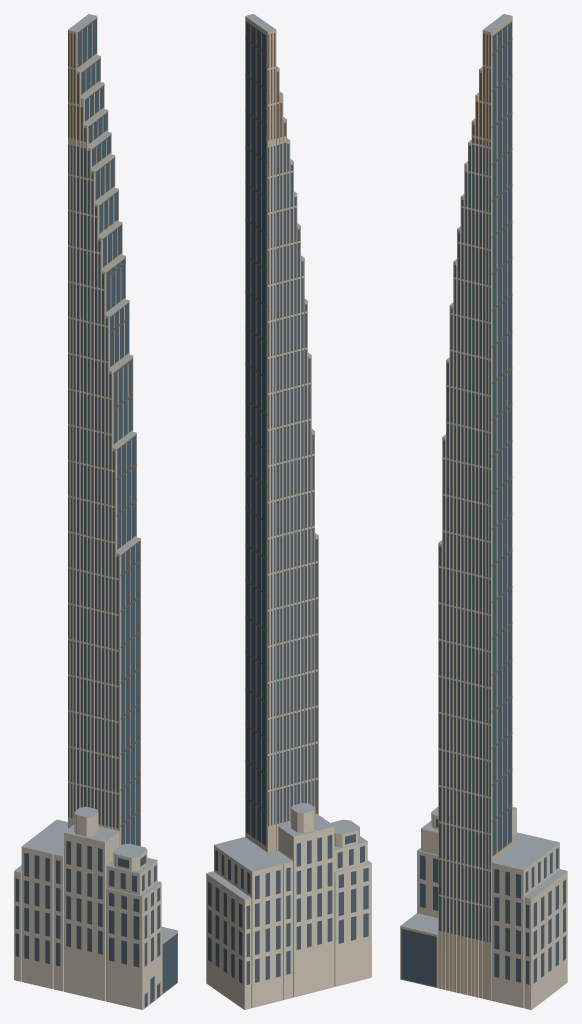
Rendered from detail.glb.
3 renders of one model, left to right at view 1: azimuth 90°, elevation 25°; view 2: azimuth 150°, elevation 25°; view 3: azimuth 270°, elevation 25°, orthographic. The views are drawn at different scales.
Visible parts, largest first — view 1: steinway-tower; view 2: steinway-tower; view 3: steinway-tower.
Part boxes in pixels (<box>): steinway-tower: <box>14,14,177,1009</box>; steinway-tower: <box>206,14,371,1009</box>; steinway-tower: <box>400,14,567,1009</box>.
Bounding box in the file's own units: 56.13 × 435 × 68.13.
